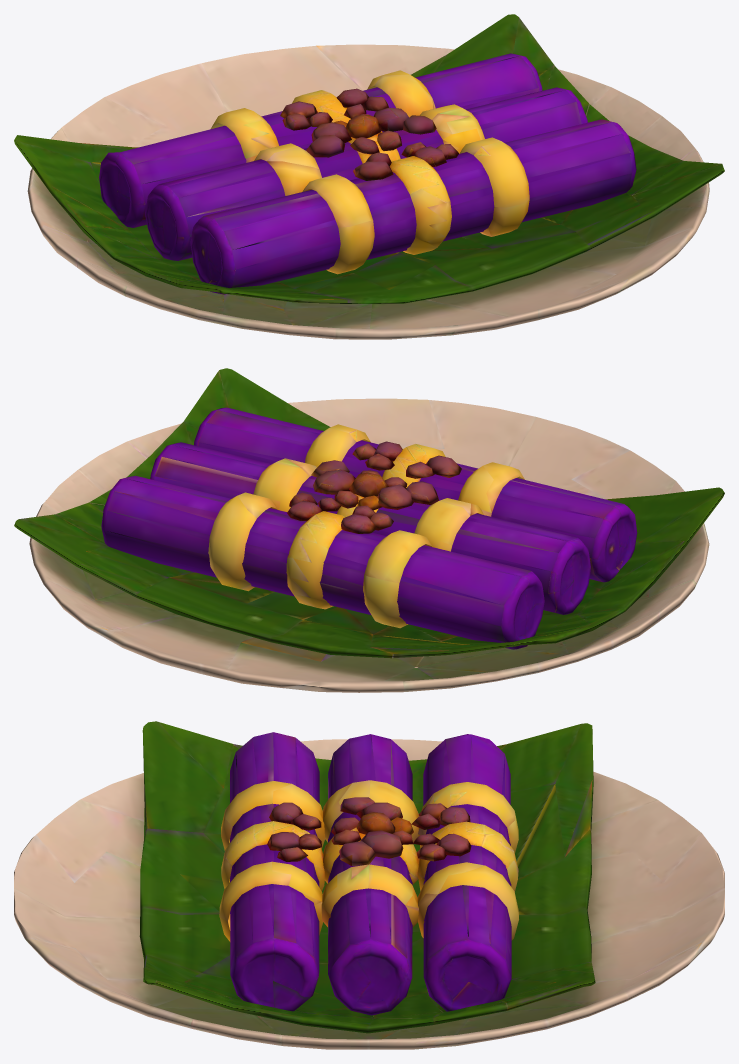
File: puto-bumbong.glb
3 renders of one model, top to bottom at view 1: azimuth 30°, elevation 25°; view 2: azimuth 150°, elevation 25°; view 3: azimuth 270°, elevation 25°, orthographic. The views are drawn at different scales.
Parts seen in each view (by area): view 1: geometry_0; view 2: geometry_0; view 3: geometry_0.
Part boxes in pixels (bbox=[...]): geometry_0: bbox=[14, 14, 724, 339]; geometry_0: bbox=[14, 368, 724, 692]; geometry_0: bbox=[14, 721, 724, 1049].
Bounding box in the file's own units: 1 × 0.2017 × 1.
1 material, 1 textured.
